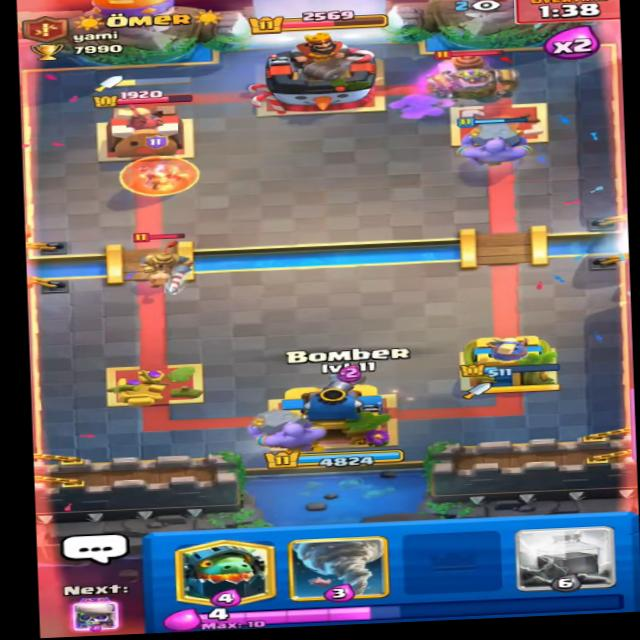evo-wizard: (116, 137, 206, 204)
goblin-machine: (416, 41, 525, 117)
prince: (135, 229, 197, 294)
